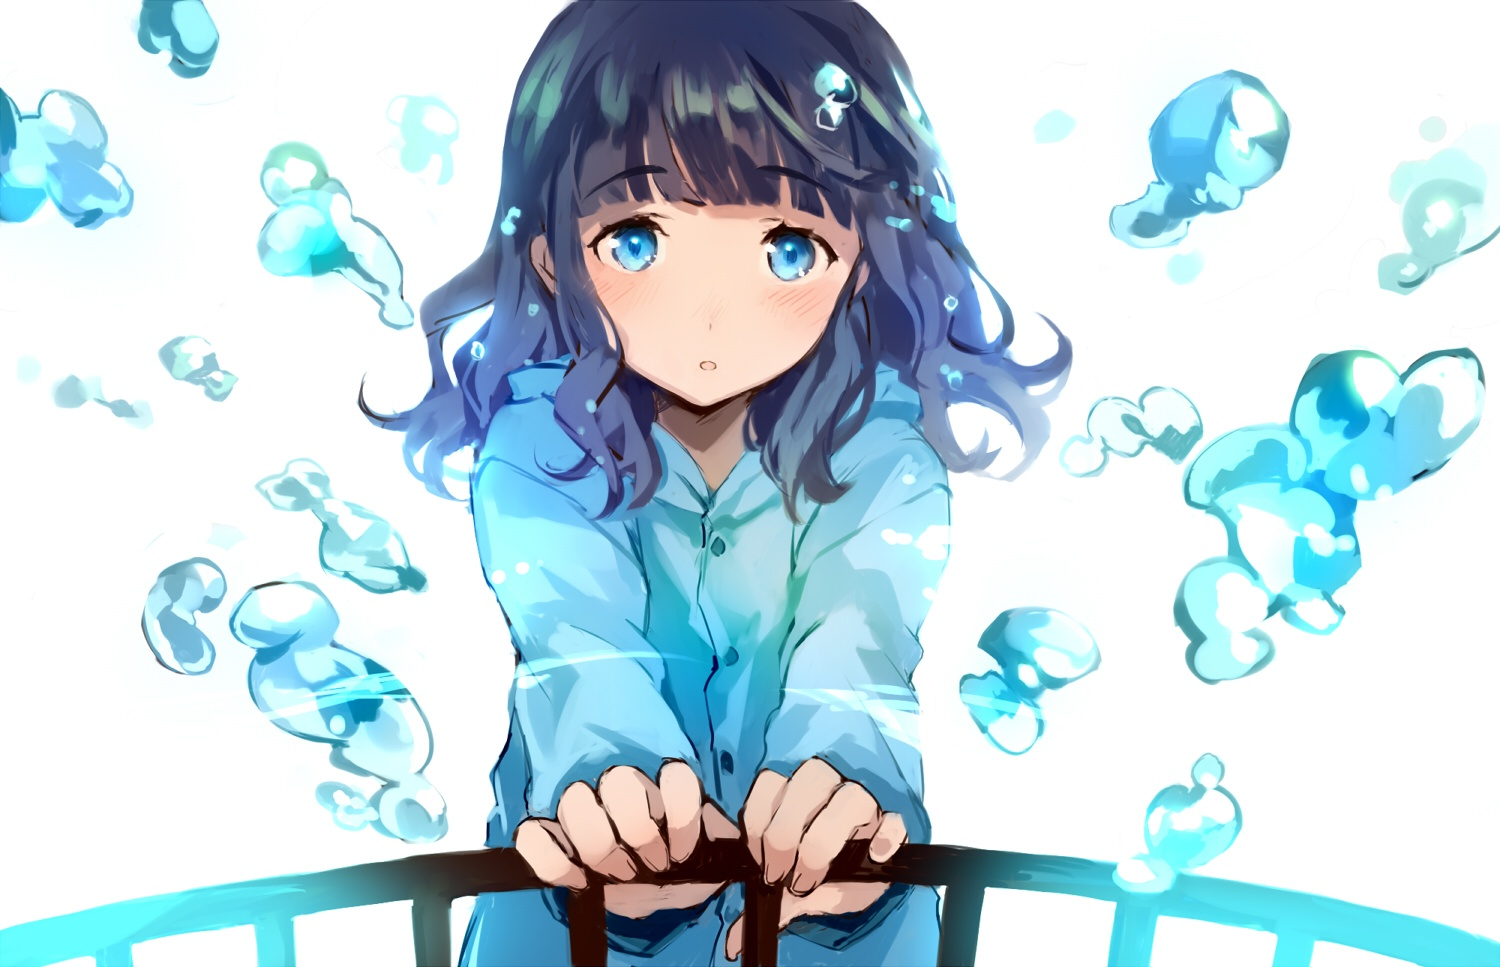纸片人正脸: (486, 0, 958, 426)
